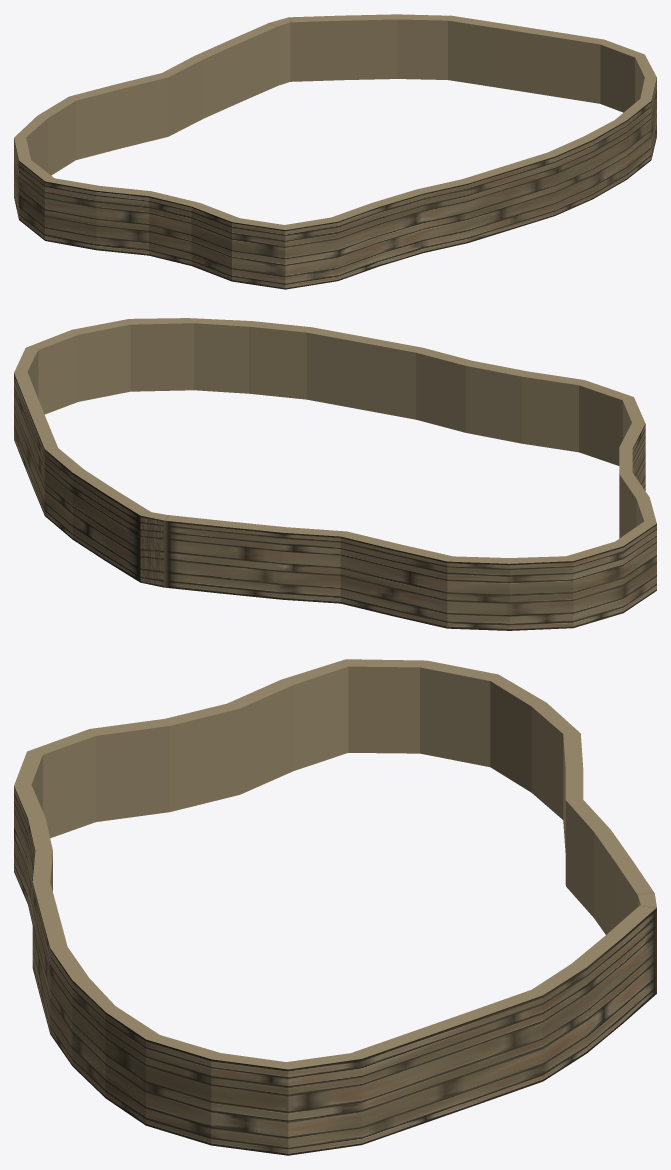
The model's file is Castle_wall_1.fbx.
The picture shows the model from 3 angles, top to bottom: view 1: azimuth 30°, elevation 25°; view 2: azimuth 150°, elevation 25°; view 3: azimuth 270°, elevation 25°; orthographic projection. The views are drawn at different scales.
Visible parts, largest first — view 1: BaseWall.057; view 2: BaseWall.057; view 3: BaseWall.057.
Part boxes in pixels (x1=…): BaseWall.057: x1=14, y1=14, x2=656, y2=289; BaseWall.057: x1=14, y1=318, x2=656, y2=630; BaseWall.057: x1=14, y1=659, x2=656, y2=1155.
Size of the model in its own units: 60.35 by 5.91 by 39.97.
